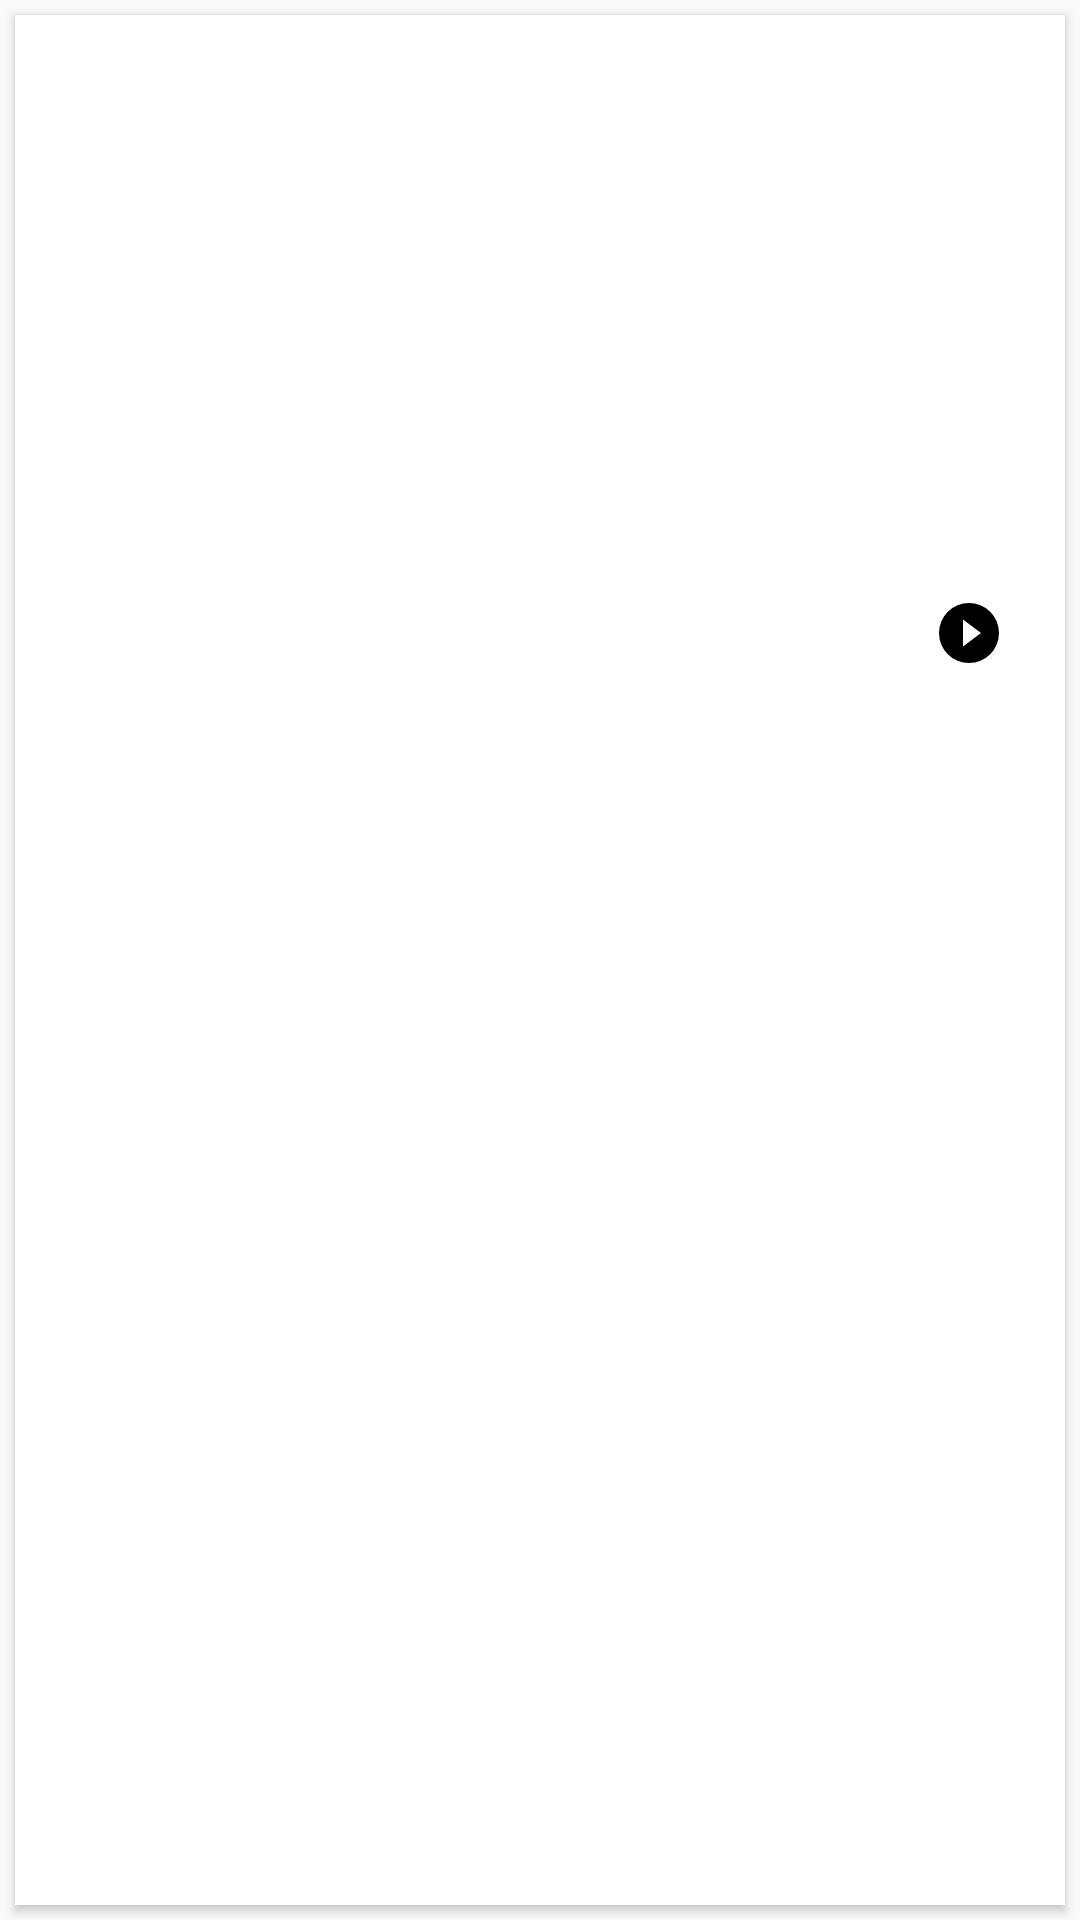

Screen size 1080 × 1920. Icon name, then its center in pixels as (x=x, y=y):
play circle: (x=969, y=633)
